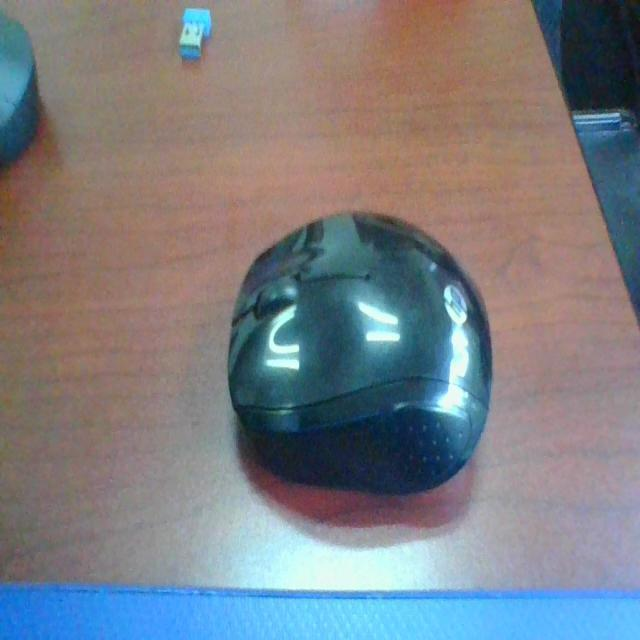Mouse: (200, 209, 528, 526)
